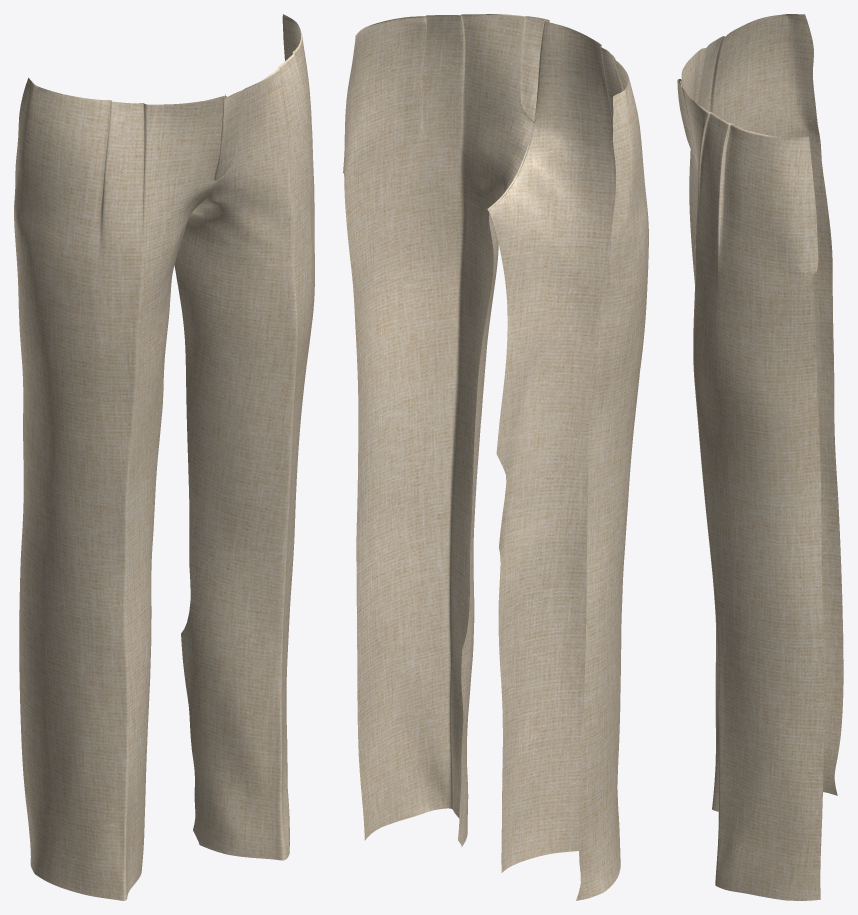
The model's file is standard_double_pleat.glb.
3 renders of one model, left to right at view 1: azimuth 30°, elevation 25°; view 2: azimuth 150°, elevation 25°; view 3: azimuth 270°, elevation 25°, orthographic. The views are drawn at different scales.
Visible parts, largest first — view 1: standard_double_pleat1; view 2: standard_double_pleat1; view 3: standard_double_pleat1.
Part boxes in pixels (x1,y1,x2,y2): standard_double_pleat1: (14,14,314,900); standard_double_pleat1: (343,14,648,900); standard_double_pleat1: (677,14,843,900).
Bounding box in the file's own units: 0.0497 × 0.1341 × 0.0262.
1 material, 1 textured.
